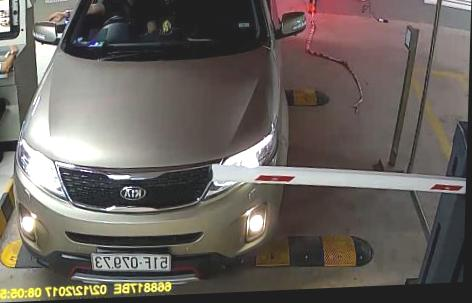License_Plate: (86, 248, 173, 277)
